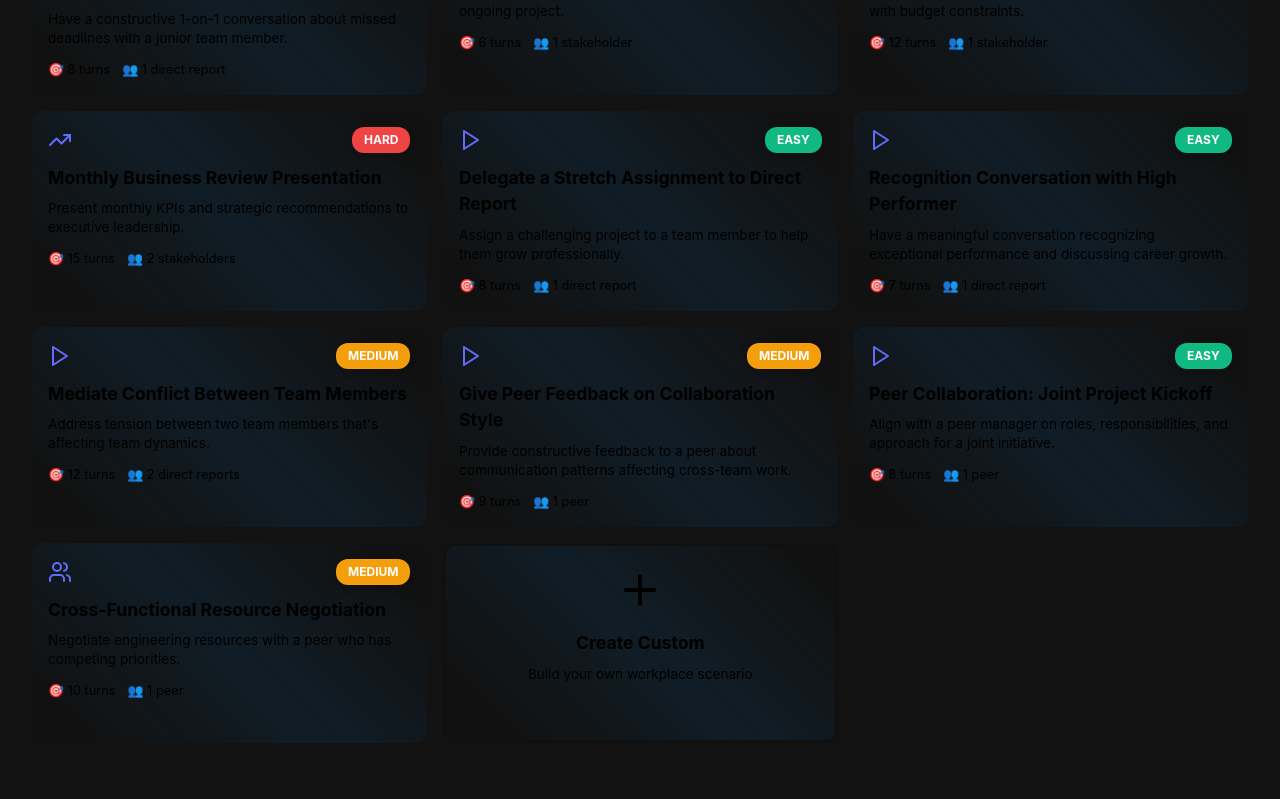
Test: ScenarioSelect › Custom Scenario Creation › disables submit button when no stakeholders
The image size is (1280, 799).
(page scrolled)
Click the heading "Create Custom".
click(640, 643)  # box x1=576 y1=630 x2=704 y2=657
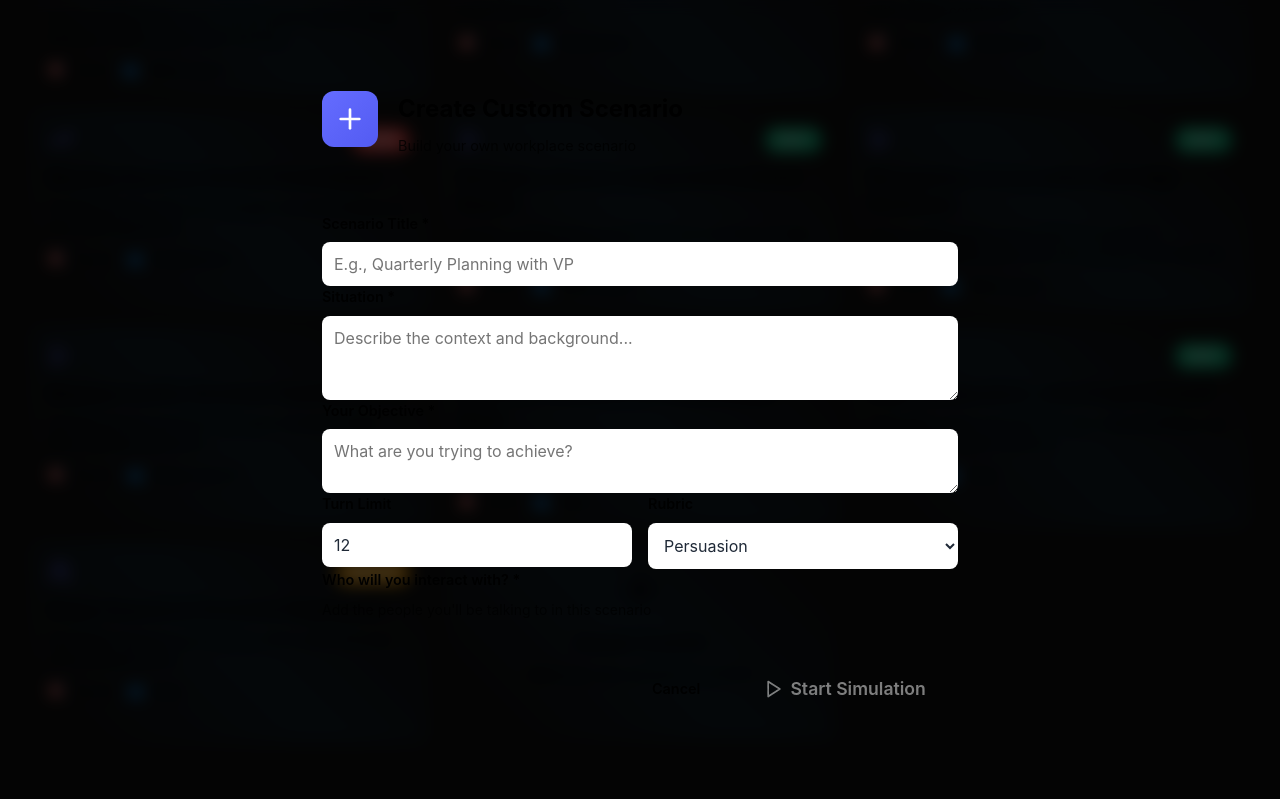
expect the button "Start Simulation" is disabled: met, box x1=732 y1=662 x2=958 y2=715
